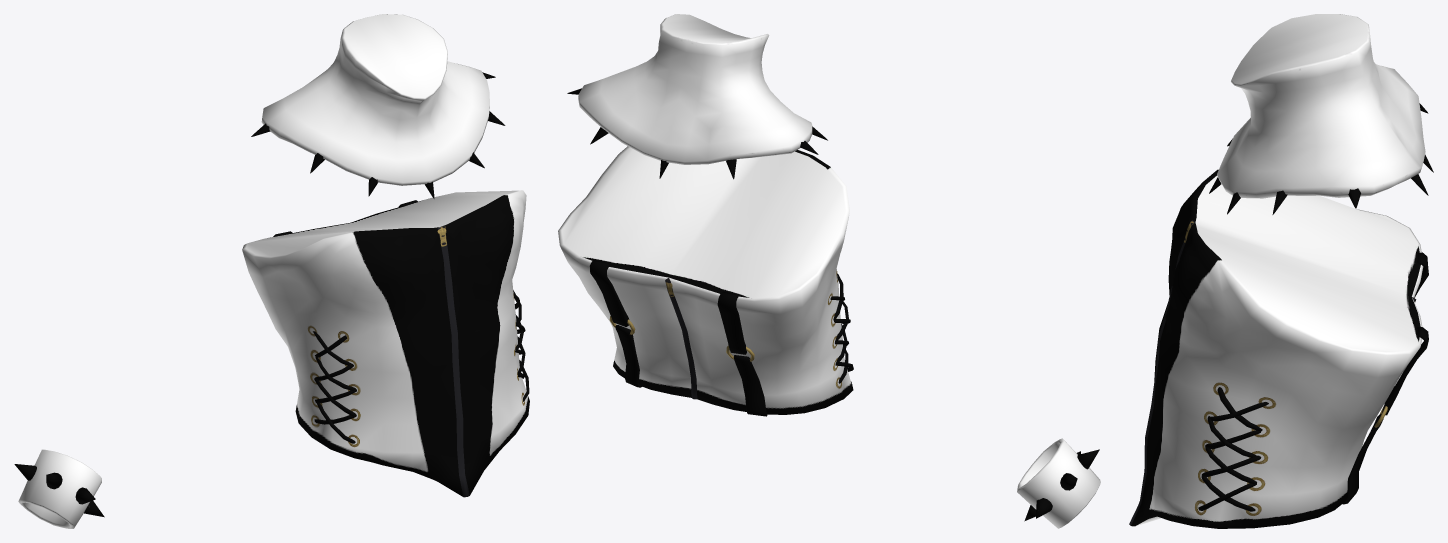
File: SurvivorMale_Chest_Shirt_CorsetVampCollar_LOD0.glb
3 views of the same model, side by side, from view 1: azimuth 30°, elevation 25°; view 2: azimuth 150°, elevation 25°; view 3: azimuth 270°, elevation 25° (orthographic). The views are drawn at different scales.
Visible parts, largest first — view 1: Hoodie; view 2: Hoodie; view 3: Hoodie.
Part boxes in pixels (left/top/right/bottom): Hoodie: left=14, top=14, right=529, bottom=528; Hoodie: left=558, top=14, right=1100, bottom=528; Hoodie: left=1129, top=14, right=1433, bottom=528.
Size of the model in its own units: 0.7488 by 0.596 by 0.3334.
1 material, 1 textured.
